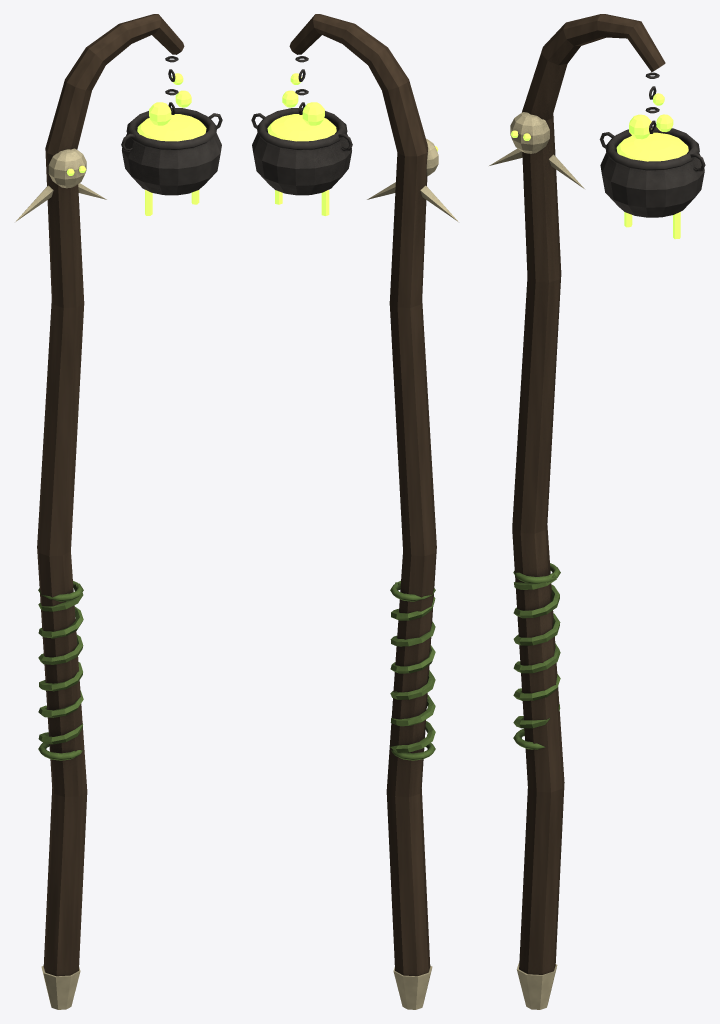
Rendered from 05_swamp_magic.fbx.
3 views of the same model, side by side, from view 1: azimuth 30°, elevation 25°; view 2: azimuth 150°, elevation 25°; view 3: azimuth 330°, elevation 25° (orthographic). The views are drawn at different scales.
Parts seen in each view (by area): view 1: Weapon; view 2: Weapon; view 3: Weapon.
Part boxes in pixels (box(x1,y1,x2,y2)): Weapon: box(15, 14, 222, 1009); Weapon: box(251, 14, 458, 1009); Weapon: box(489, 14, 705, 1009).
Bounding box in the file's own units: 37.86 × 168 × 15.91.
Materials: 2 (1 with a texture image).
